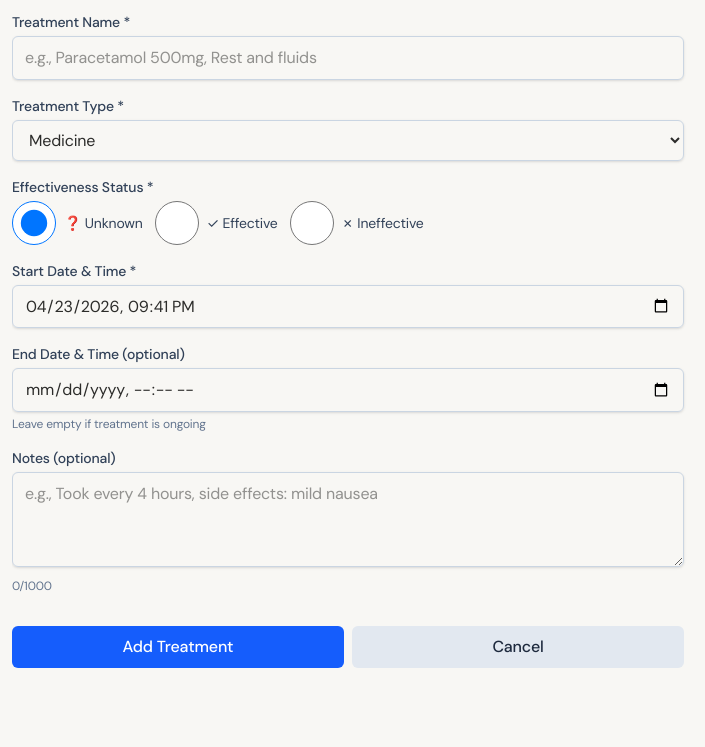
Test: TreatmentForm Component › Error Handling › should display submission error
This screenshot has width=705, height=747.
Type "Test" into the field labelled "Treatment Name *" at (348, 58), box x1=12 y1=36 x2=684 y2=80
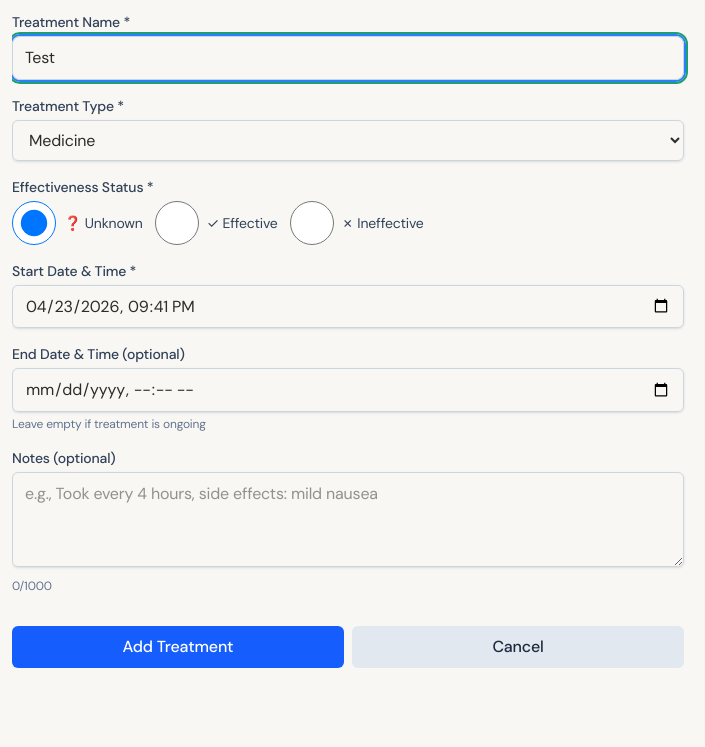
Click the button "Add Treatment" at (178, 647), box x1=12 y1=626 x2=344 y2=668
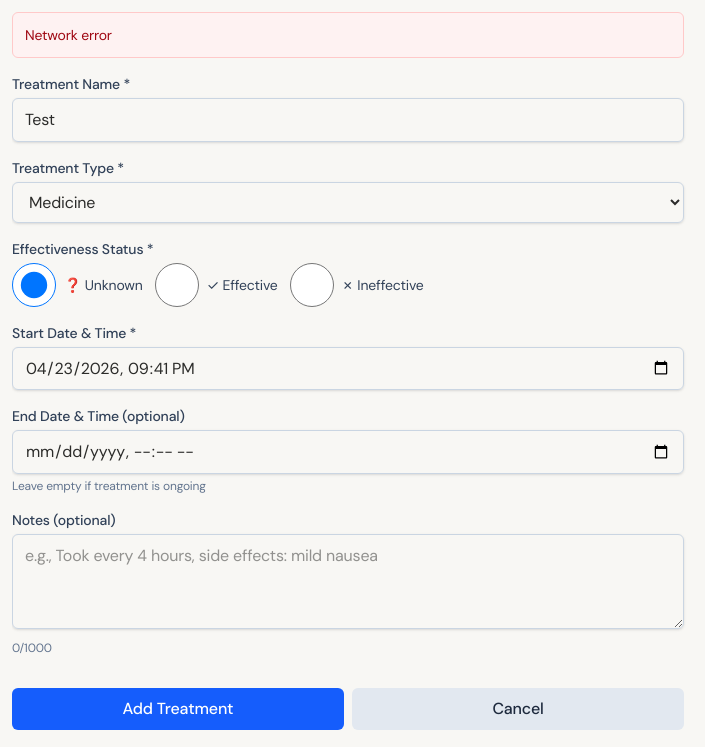
Check: the text "Network error" is shown, box x1=25 y1=26 x2=112 y2=44
